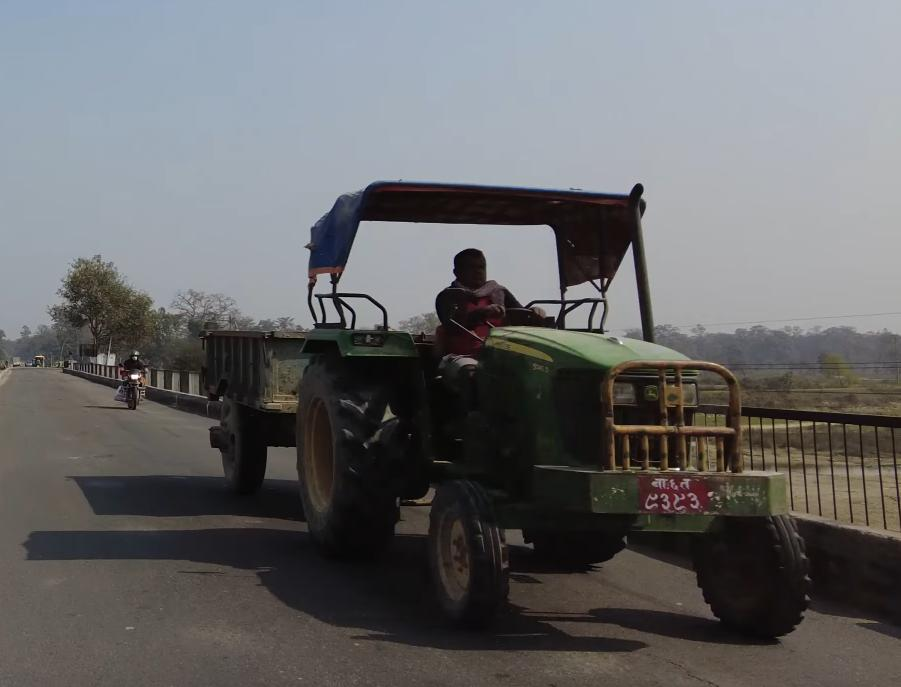bike: (113, 360, 153, 412)
tractor: (282, 164, 824, 647)
